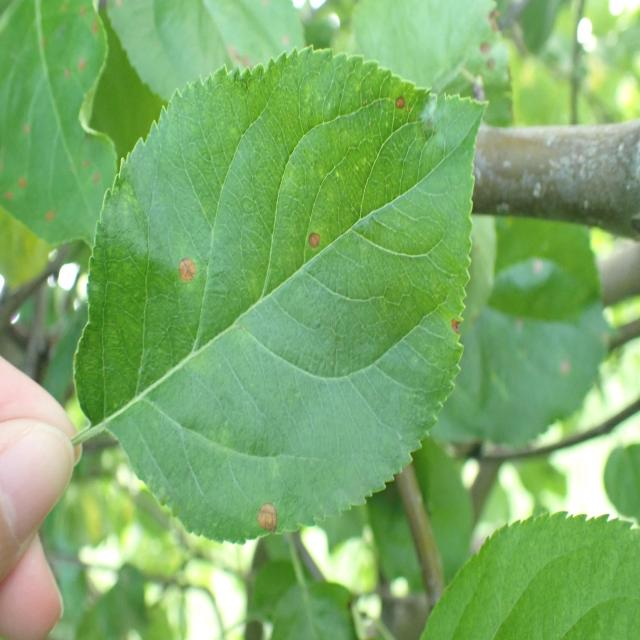Black Rot: (424, 301, 494, 361), (279, 217, 336, 267), (167, 247, 209, 310), (242, 498, 286, 553), (367, 80, 418, 122)
